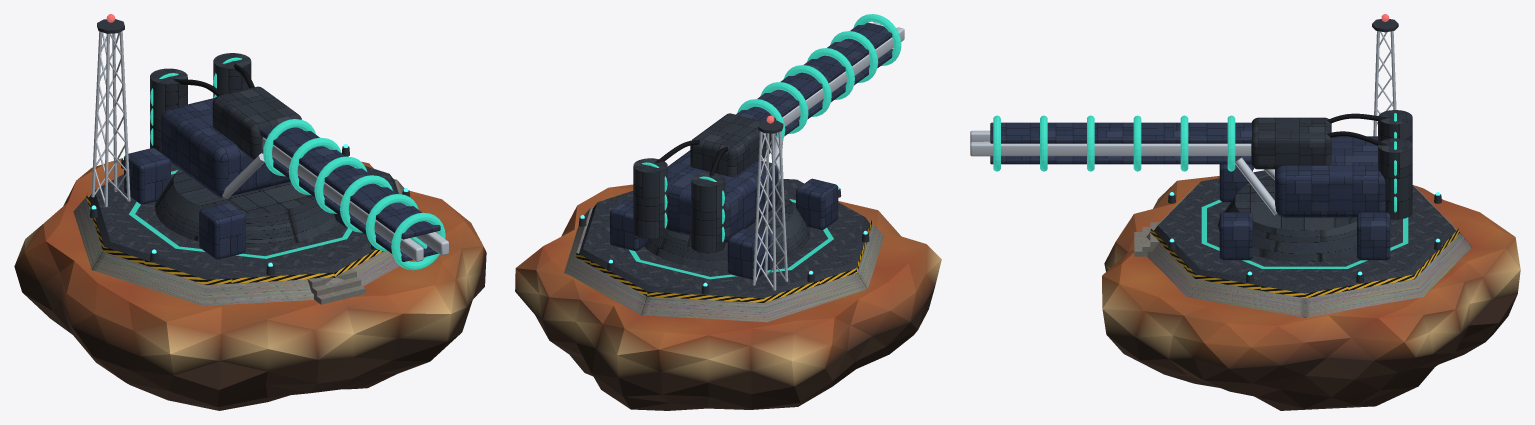
Rendered from railgun-L1.glb.
3 renders of one model, left to right at view 1: azimuth 30°, elevation 25°; view 2: azimuth 150°, elevation 25°; view 3: azimuth 270°, elevation 25°, orthographic. The views are drawn at different scales.
Size of the model in its own units: 6.1 by 4.96 by 8.22.
13 materials, 5 textured.
